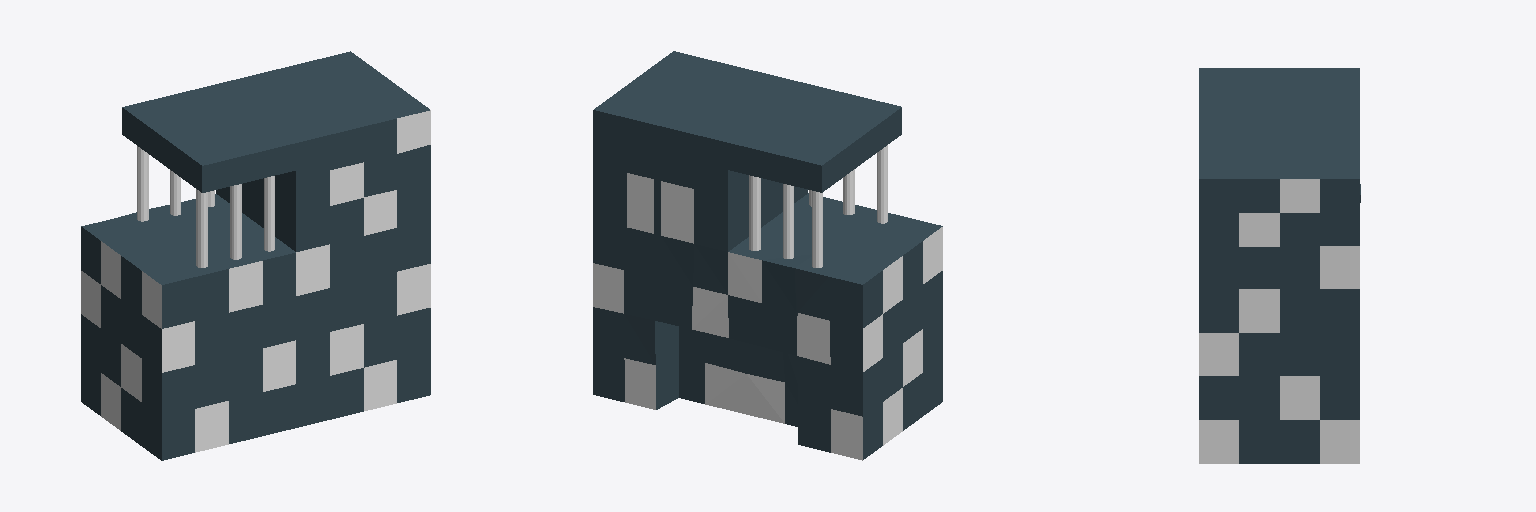
The model's file is model-triangulated.obj.
The picture shows the model from 3 angles: view 1: azimuth 30°, elevation 25°; view 2: azimuth 150°, elevation 25°; view 3: azimuth 270°, elevation 25°; orthographic projection.
Parts seen in each view (by area): view 1: group[number redacted], group[number redacted], group[number redacted], group[number redacted], group[number redacted]; view 2: group[number redacted], group[number redacted], group[number redacted], group[number redacted], group[number redacted]; view 3: group[number redacted].
Boxes of the visible parts, box(x1,y1,x2,y2) form: group[number redacted]: box(81, 51, 430, 460); group[number redacted]: box(196, 189, 207, 267); group[number redacted]: box(230, 184, 241, 259); group[number redacted]: box(137, 146, 148, 221); group[number redacted]: box(264, 176, 274, 251); group[number redacted]: box(593, 51, 942, 460); group[number redacted]: box(749, 175, 760, 250); group[number redacted]: box(812, 191, 822, 267); group[number redacted]: box(877, 145, 887, 223); group[number redacted]: box(783, 184, 793, 258); group[number redacted]: box(1199, 68, 1360, 463).
Bounding box in the file's own units: 0.516 × 0.5214 × 0.2679.